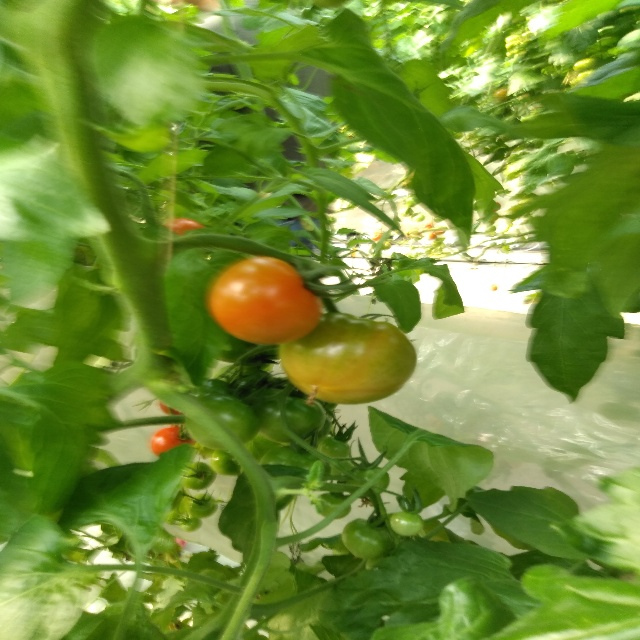l_fully_ripened: (151, 427, 196, 457)
l_green: (242, 388, 325, 446), (184, 394, 259, 451), (259, 444, 333, 475), (342, 518, 394, 559), (342, 463, 390, 498), (183, 461, 216, 491), (315, 493, 352, 519), (389, 511, 424, 537), (211, 450, 244, 477), (185, 492, 218, 518), (317, 436, 350, 458), (181, 513, 203, 533)
l_half_ripened: (278, 312, 417, 405), (208, 257, 324, 345)
